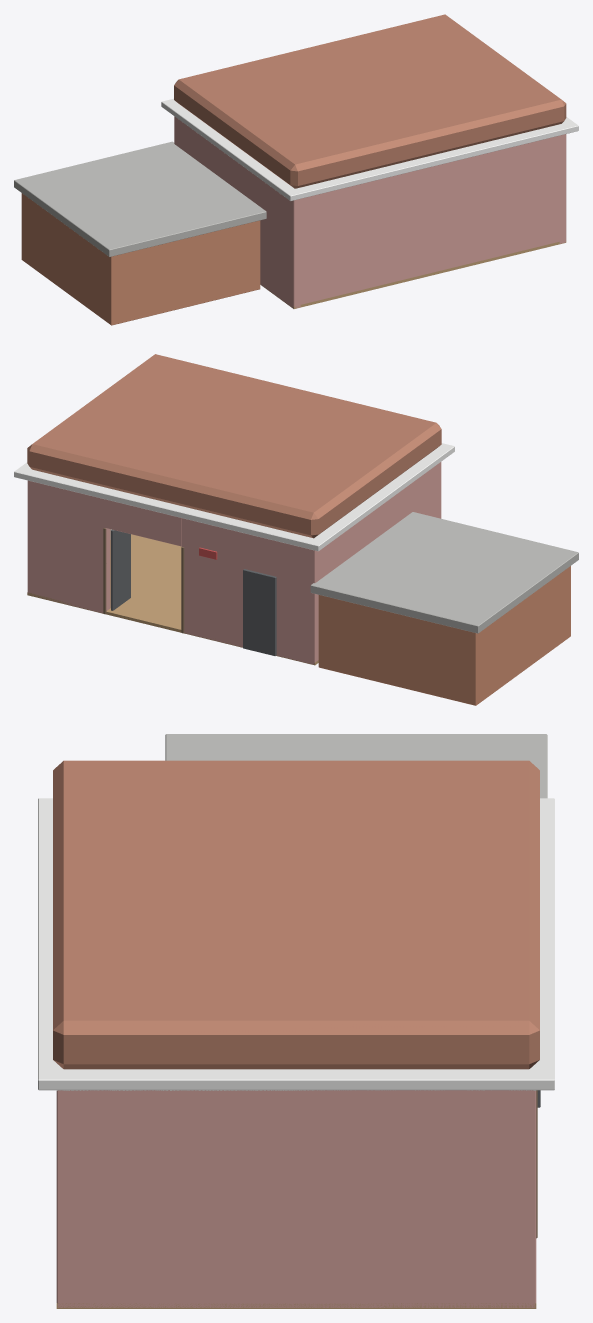
File: Sultanbeyli_CornerShop95.fbx
The picture shows the model from 3 angles, top to bottom: view 1: azimuth 30°, elevation 25°; view 2: azimuth 150°, elevation 25°; view 3: azimuth 270°, elevation 25°; orthographic projection. The views are drawn at different scales.
Parts seen in each view (by area): view 1: Sultanbeyli_CornerShop95; view 2: Sultanbeyli_CornerShop95; view 3: Sultanbeyli_CornerShop95.
Part boxes in pixels (x1=…): Sultanbeyli_CornerShop95: x1=14, y1=14, x2=578, y2=325; Sultanbeyli_CornerShop95: x1=14, y1=354, x2=578, y2=705; Sultanbeyli_CornerShop95: x1=38, y1=734, x2=554, y2=1308.
Bounding box in the file's own units: 13.5 × 4.24 × 6.9.
